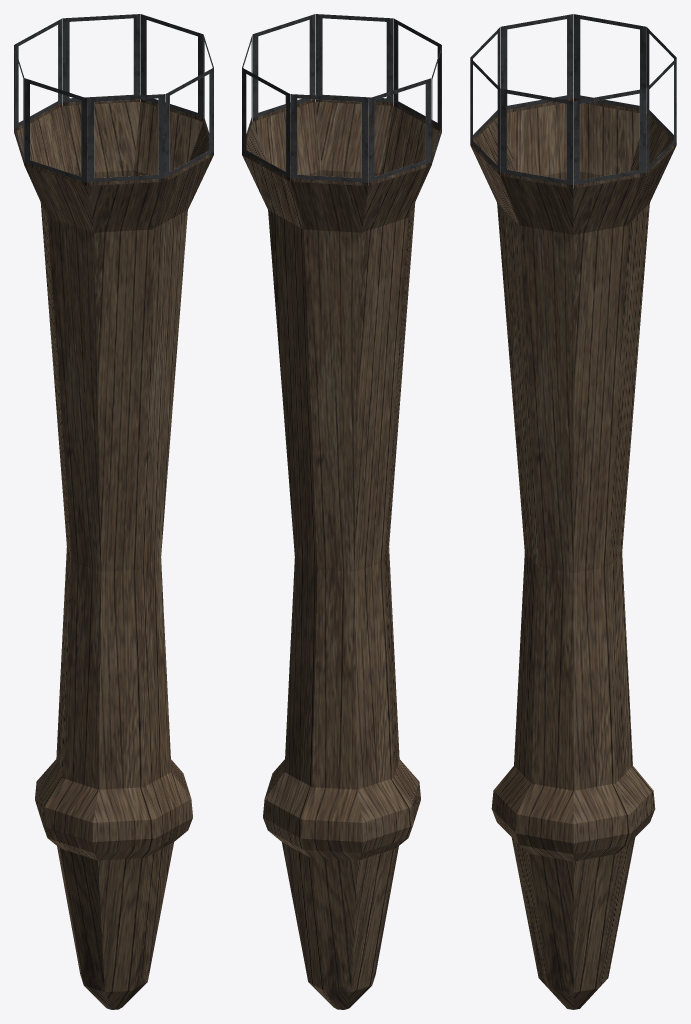
Rendered from Torch_mesh.FBX.
3 views of the same model, side by side, from view 1: azimuth 30°, elevation 25°; view 2: azimuth 150°, elevation 25°; view 3: azimuth 270°, elevation 25° (orthographic).
Parts seen in each view (by area): view 1: Torch_mesh; view 2: Torch_mesh; view 3: Torch_mesh.
Boxes of the visible parts, <box> form: Torch_mesh: <box>14,14,213,1009</box>; Torch_mesh: <box>242,14,441,1009</box>; Torch_mesh: <box>470,14,676,1009</box>.
Size of the model in its own units: 9.33 by 47.29 by 9.33.
1 material, 1 textured.
